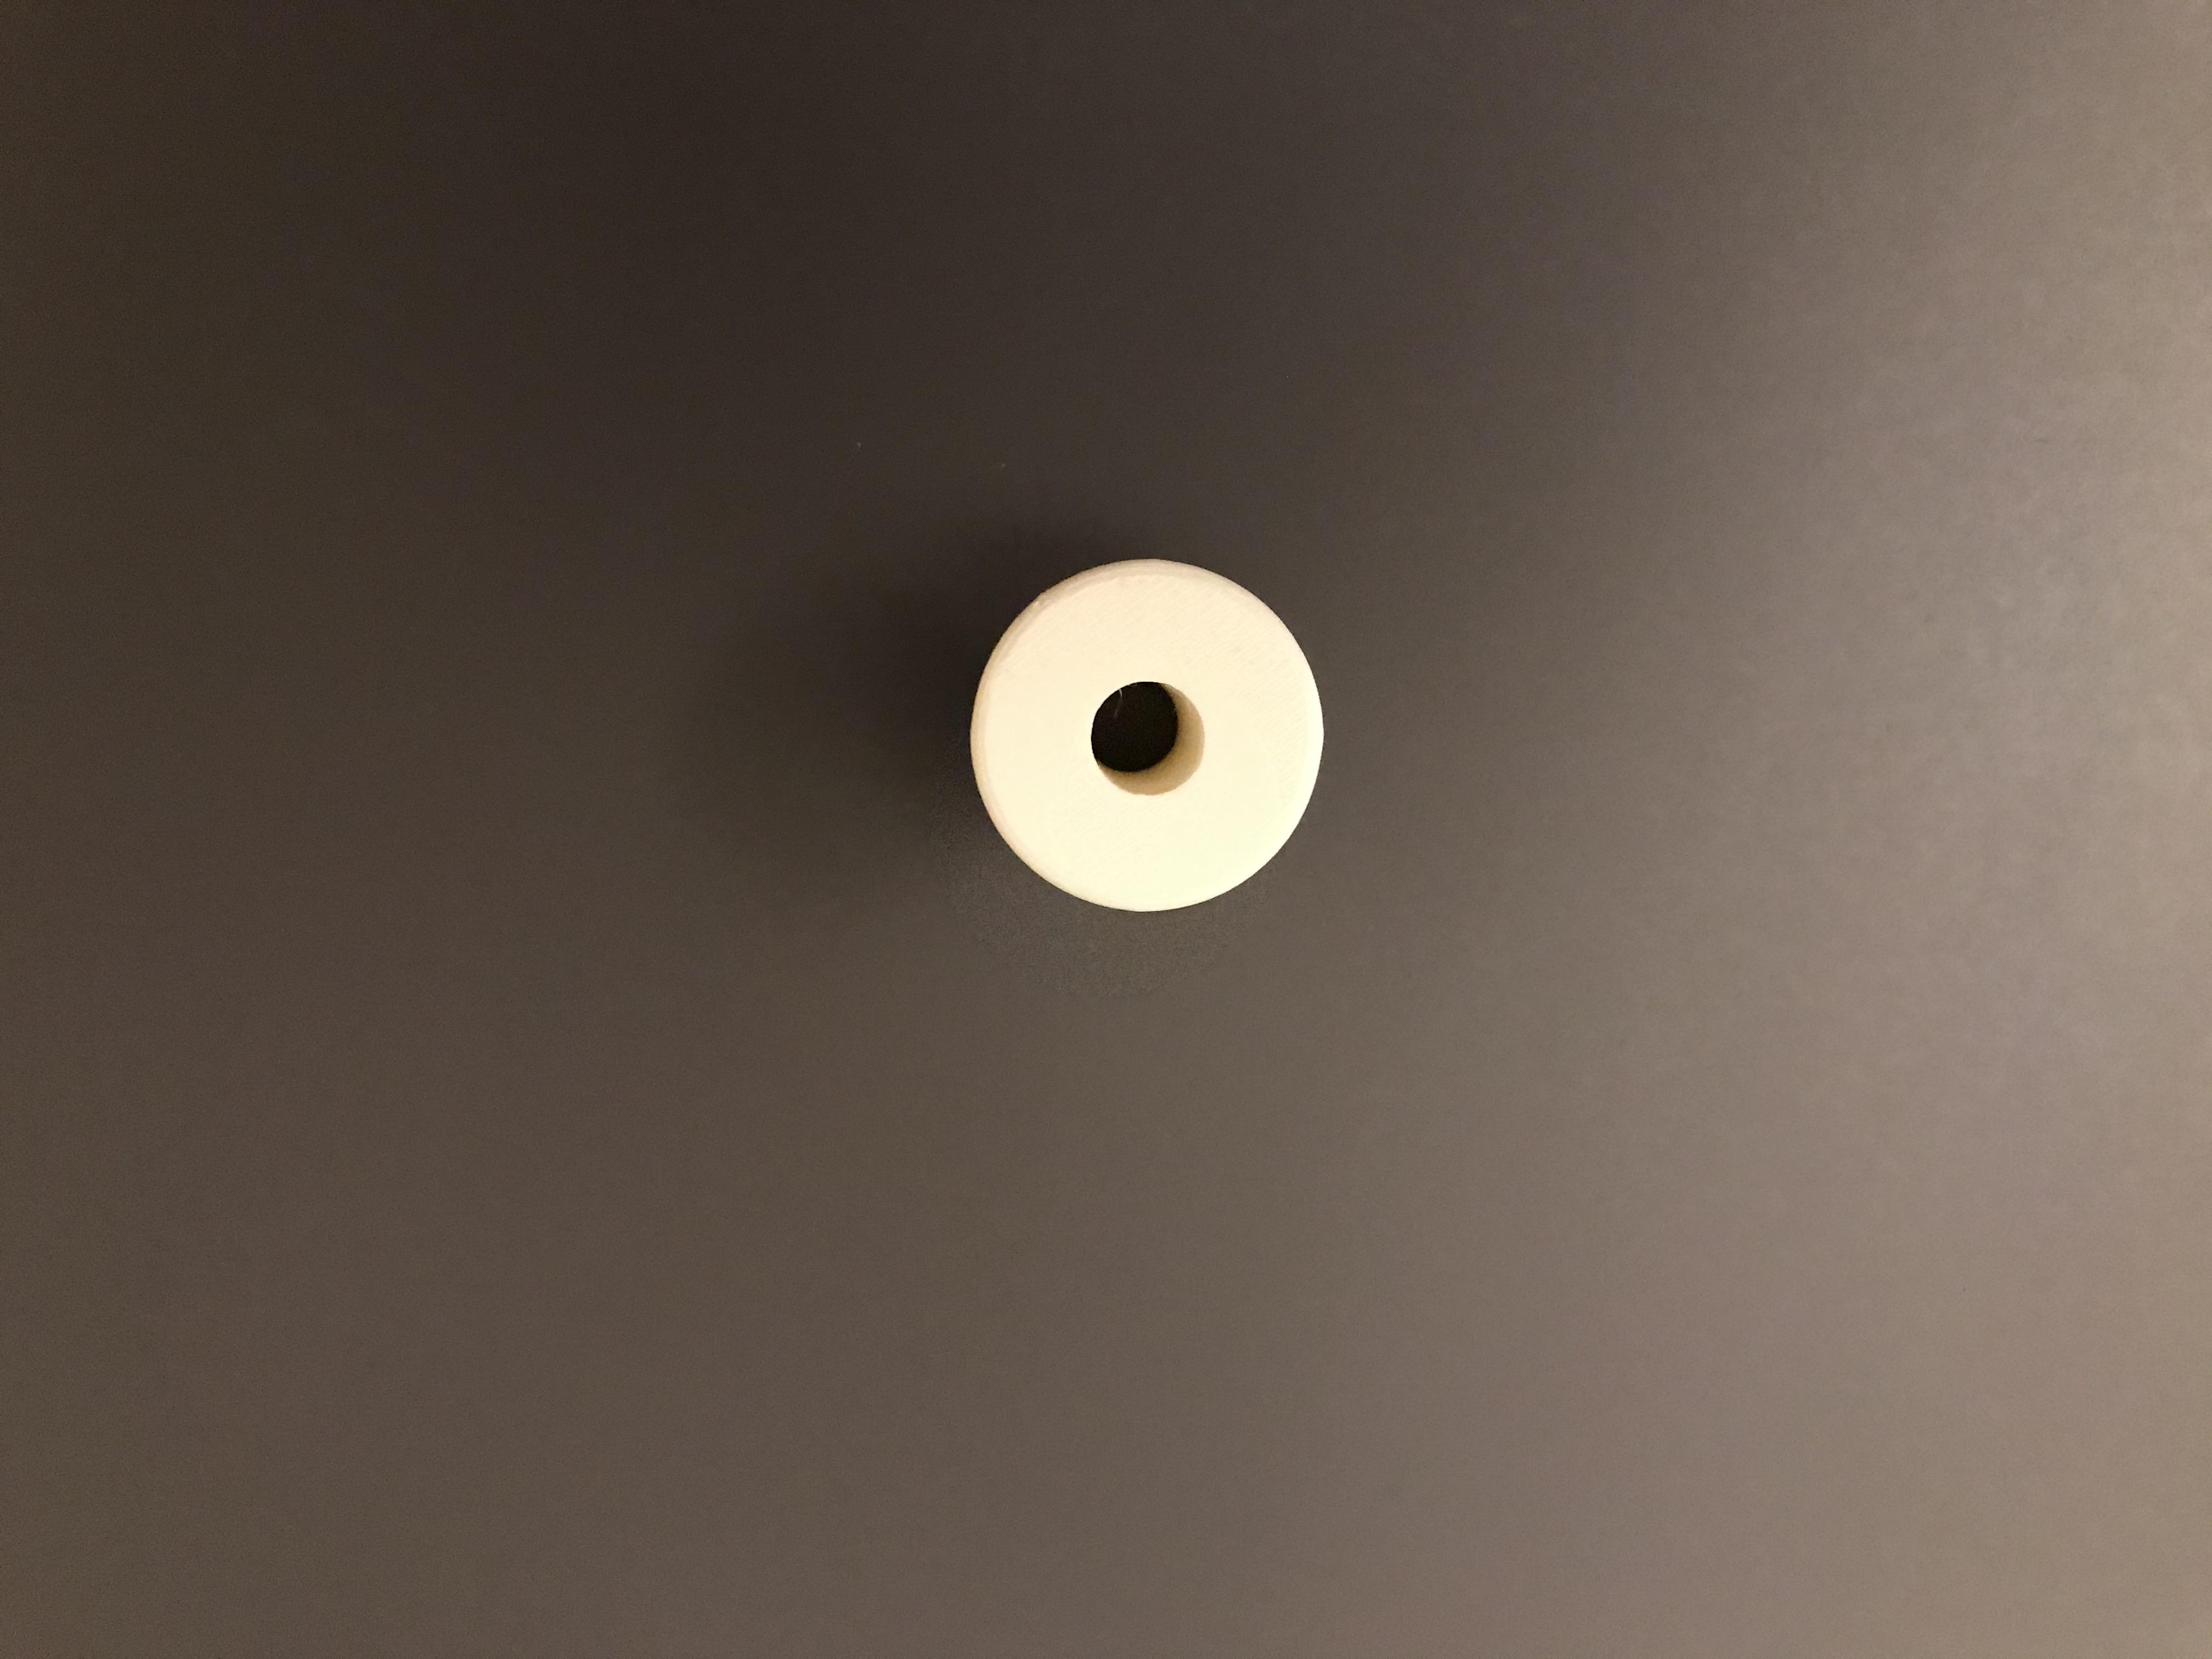White Cone: (960, 551, 1329, 918)
